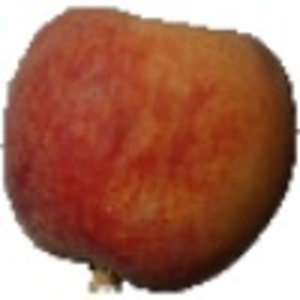pêssego: (1, 5, 300, 300)
